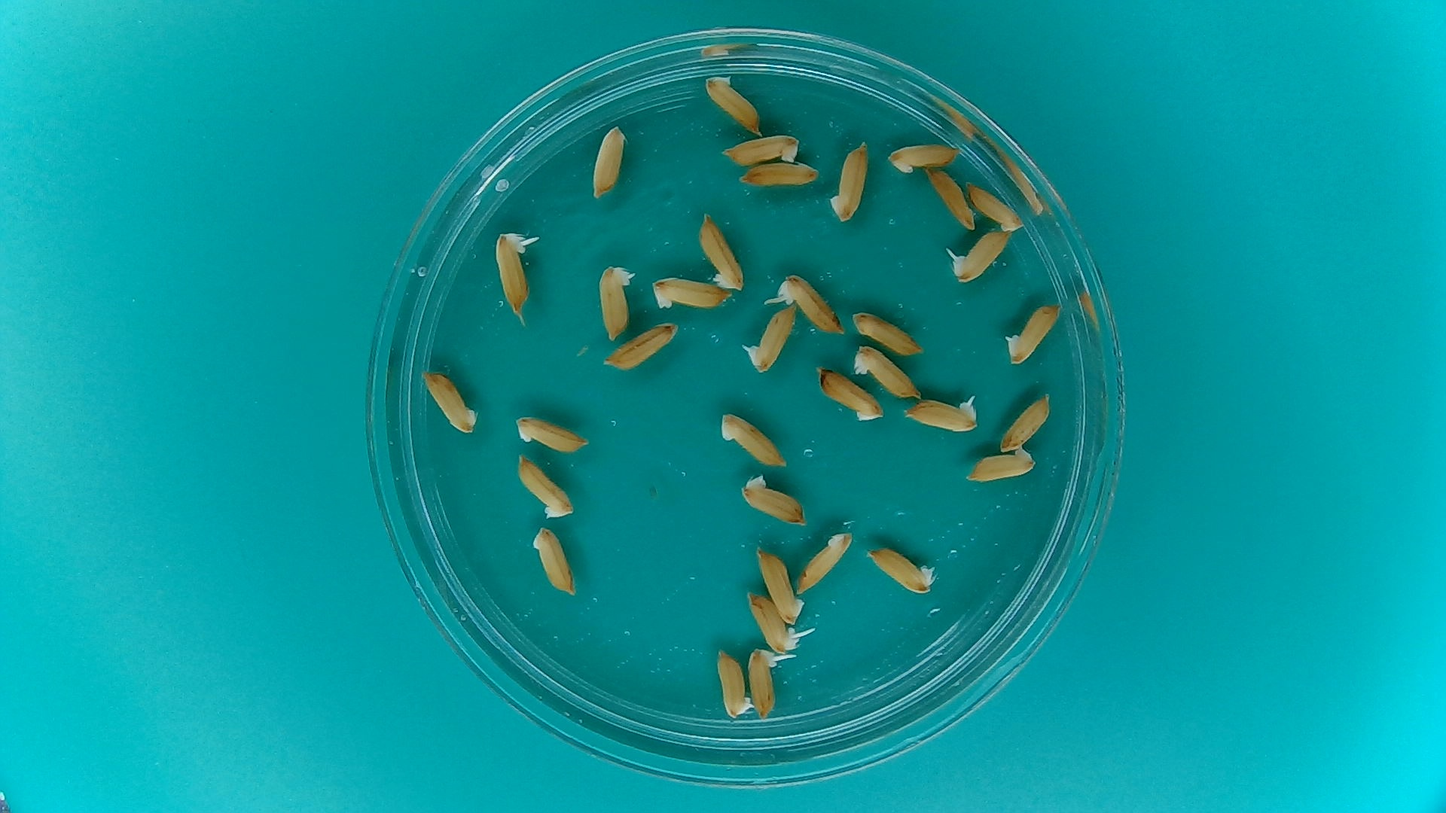no: (418, 364, 480, 437), (513, 451, 576, 519), (696, 208, 747, 291), (600, 320, 681, 372), (852, 343, 925, 400), (815, 364, 886, 422), (1002, 299, 1063, 366), (717, 410, 788, 467), (701, 72, 764, 136), (755, 544, 804, 625), (738, 473, 809, 528), (863, 544, 936, 597), (528, 523, 579, 598), (594, 260, 638, 346), (850, 307, 927, 356), (798, 529, 856, 593), (828, 136, 869, 226), (996, 389, 1052, 453), (926, 164, 978, 230), (512, 412, 592, 454), (589, 121, 630, 199), (648, 275, 731, 311), (967, 178, 1024, 230), (714, 647, 753, 721), (721, 132, 802, 166), (965, 450, 1038, 487), (886, 140, 964, 174), (737, 160, 820, 190)
yes: (778, 273, 847, 336), (744, 589, 800, 655), (902, 391, 983, 433), (953, 228, 1011, 284), (746, 309, 797, 372), (496, 236, 531, 317), (748, 644, 778, 717)
